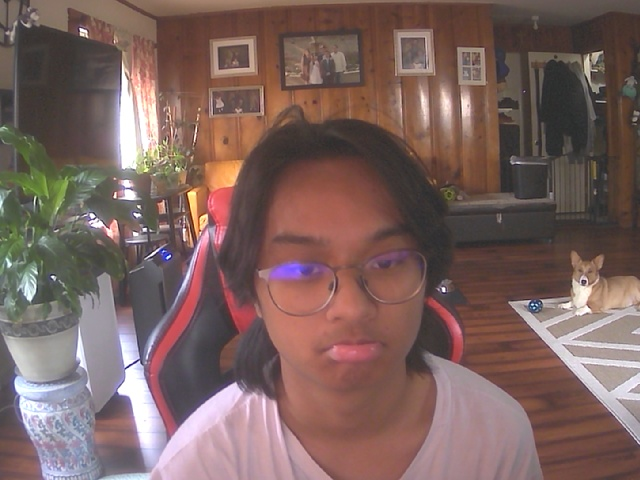sad: (244, 124, 436, 396)
